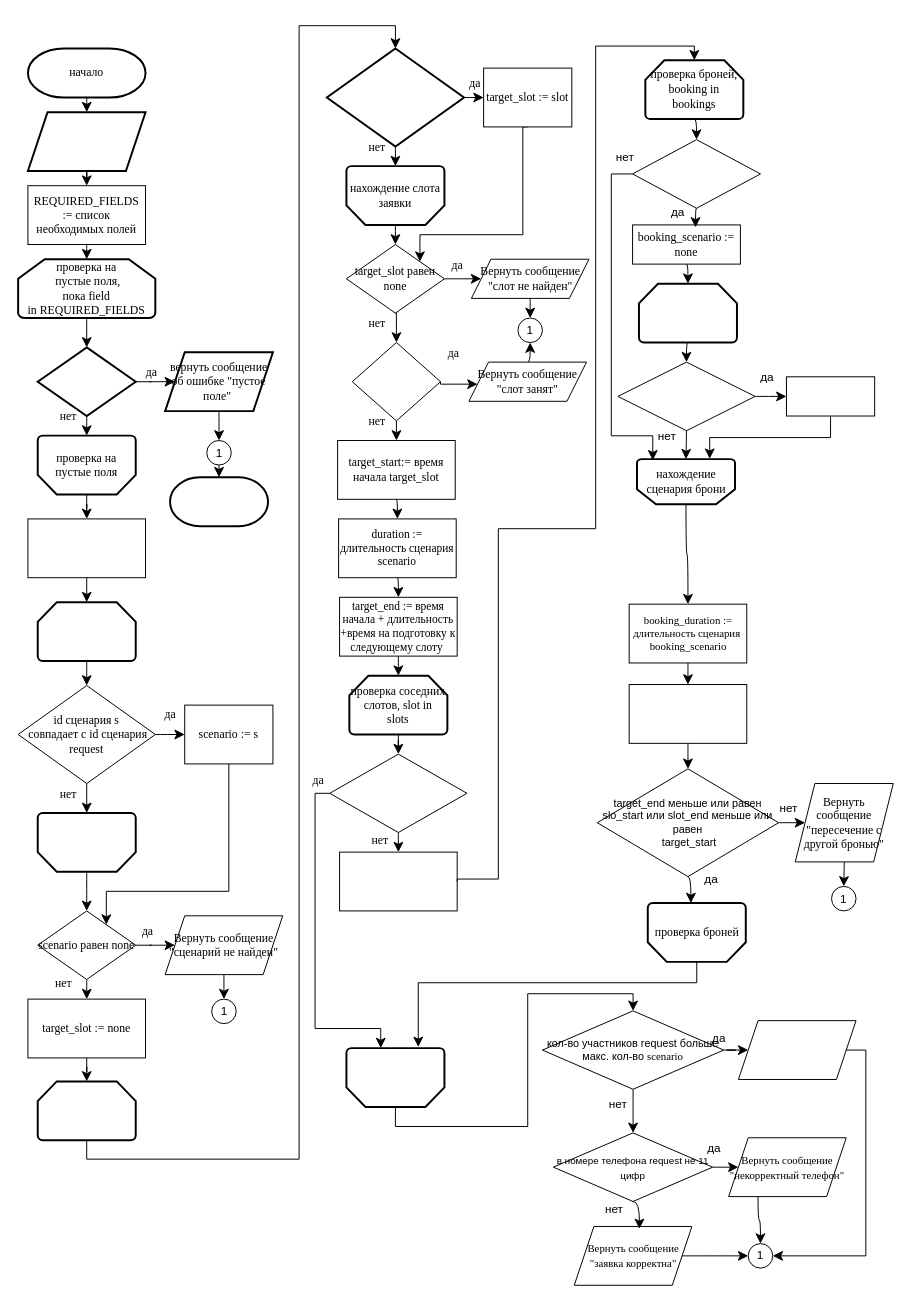
Image size: 910x1303. Some labels were removed from this diagram. The centre of each missing label's shape, as x and y in pixels:
booking_ scenario := s: (x=830, y=396)
field нет в request: (x=86, y=381)
id слота booking совпадает с id slot и статус active: (x=696, y=173)
id слота slot совпадает с id слота request: (x=395, y=97)
id сценария s совпадает с id сценария booking: (x=686, y=396)
scenario := none: (x=86, y=548)
slot _end := время начала + длительность +время на подготовку к следующему слоту: (x=687, y=713)
slot _start:= время начала slot: (x=398, y=881)
Вернуть сообщение "слишком много участников": (x=796, y=1049)
дата slot не совпадает с датой target_slot или статус "free": (x=398, y=793)
конец: (x=219, y=501)
нахождение слота заявки, slot in slots: (x=86, y=1110)
нахождение сценария брони, s in scenarios: (x=687, y=312)
нахождение сценария заявки: (x=86, y=841)
нахождение сценария заявки, s in scenarios: (x=86, y=631)
получить request, scenarios, slots, bookings: (x=86, y=141)
проверка соседних слотов: (x=395, y=1077)
статус target_slot не "free": (x=396, y=381)
